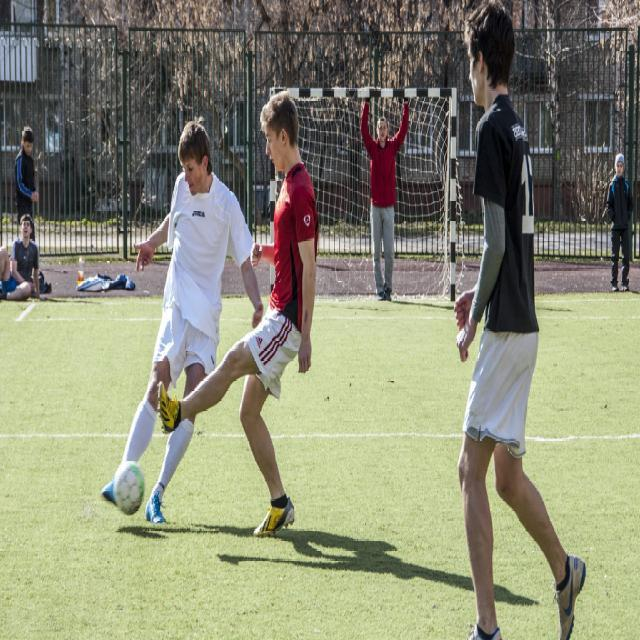football: (103, 456, 170, 522)
